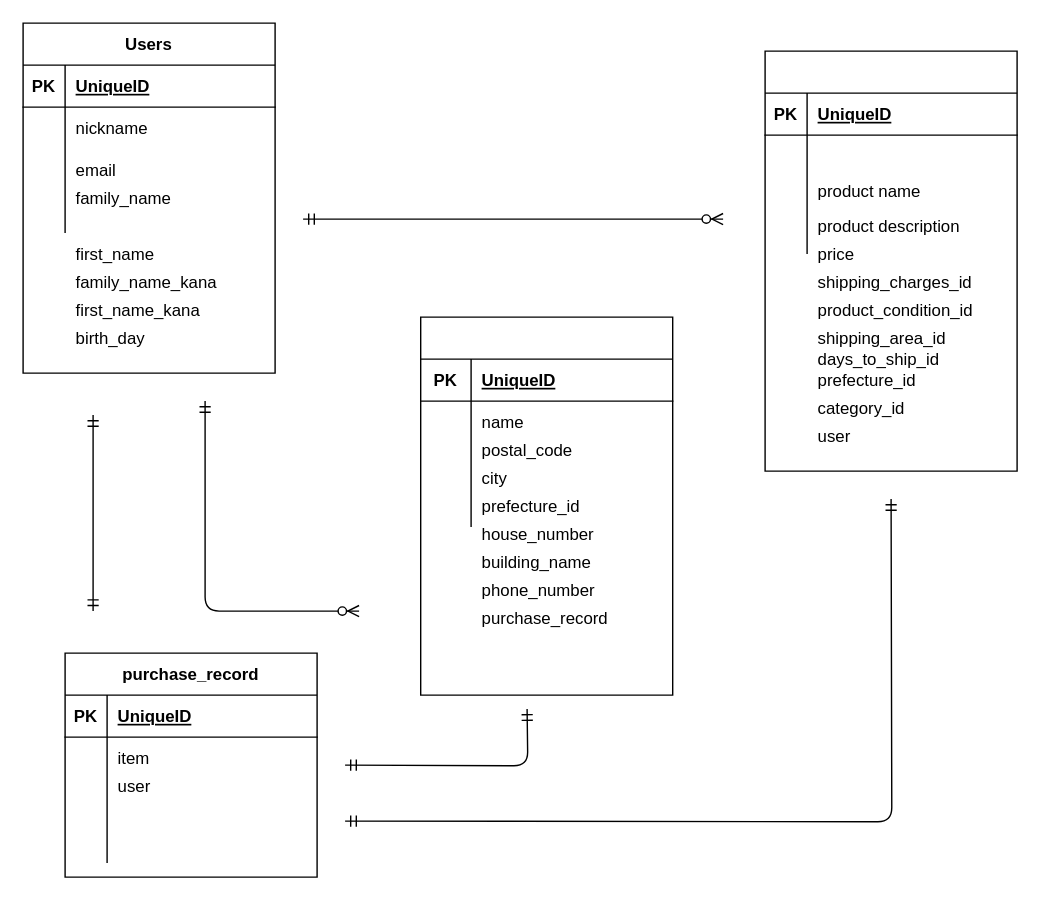
This 1040x900 diagram has some shape labels left out. Each missing label, with the box of its shape:
Items: (764, 50, 1017, 471)
purchases: (419, 316, 673, 695)
